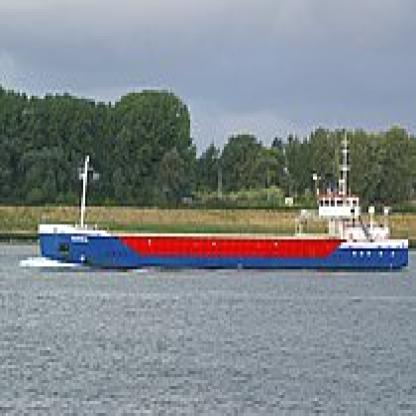Tanker: (46, 150, 404, 281)
